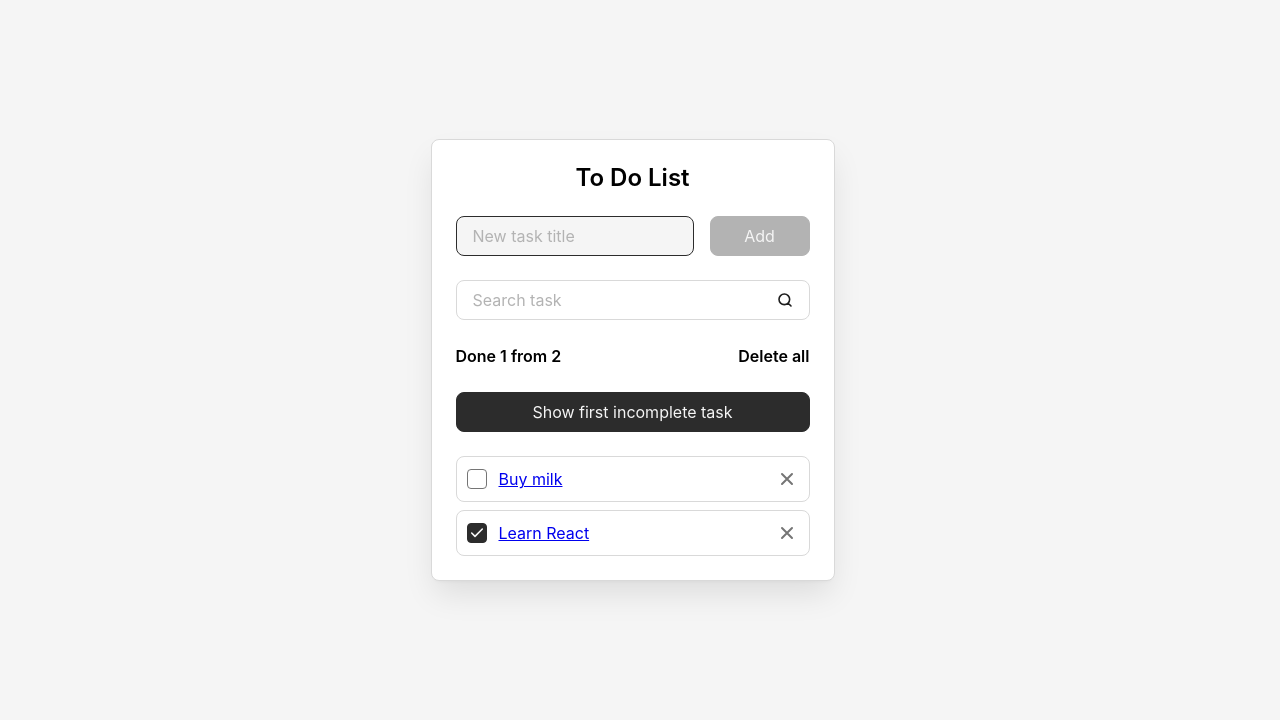
Test: Todo › keeps tasks when deleting all is cancelled
Click the button "Delete all": (774, 356) [738, 344, 810, 368]
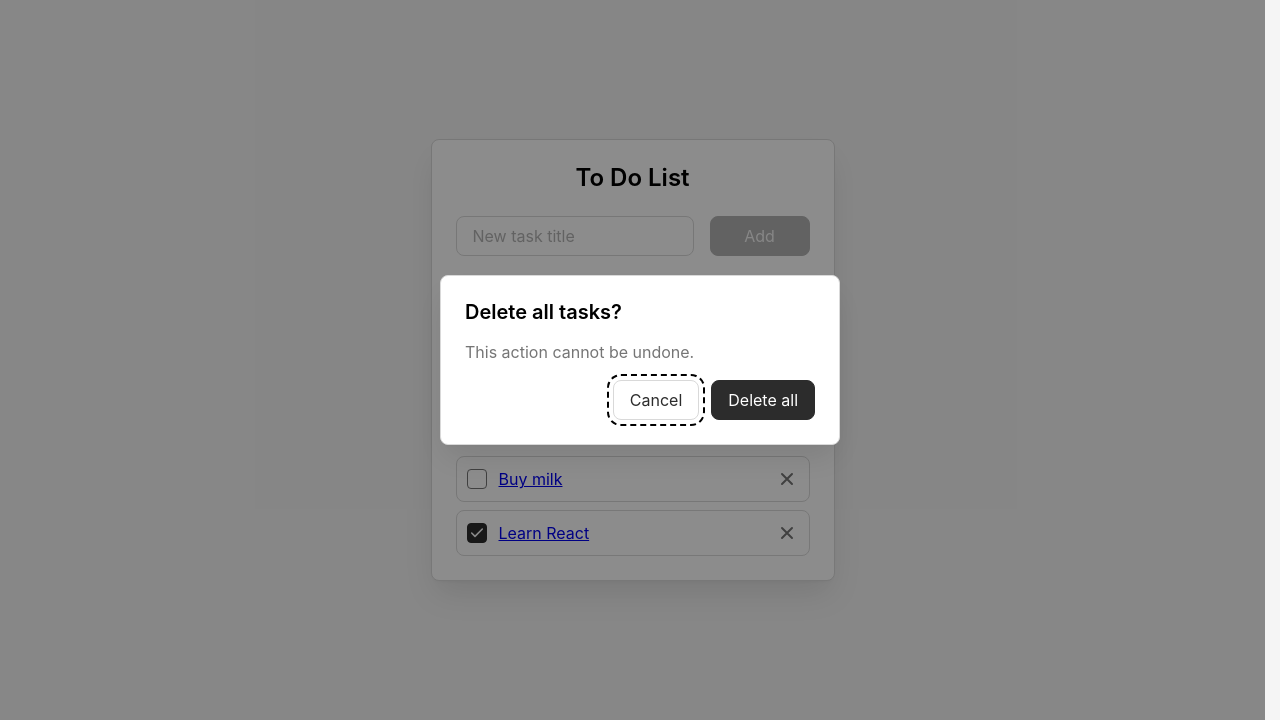
Click the button "Cancel": (656, 400) [613, 380, 699, 420]
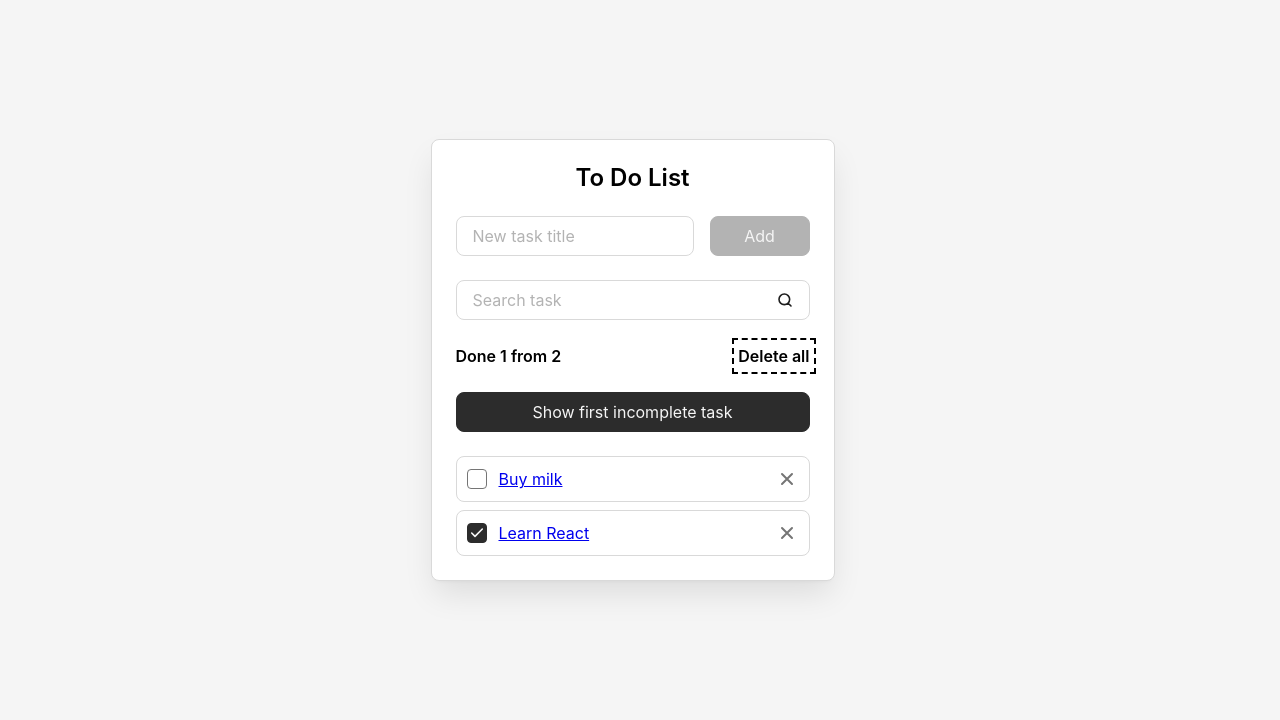
expect the checkbox named "Buy milk" next to "Buy milk" is shown: met, box [466, 469, 486, 489]
expect the dialog is gone: met
